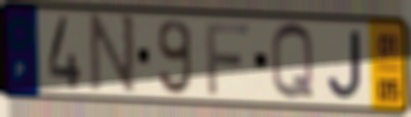4: (47, 14, 83, 92)
9: (156, 17, 195, 98)
F: (203, 21, 252, 98)
J: (325, 27, 365, 102)
N: (88, 12, 137, 99)
Q: (268, 20, 318, 105)
